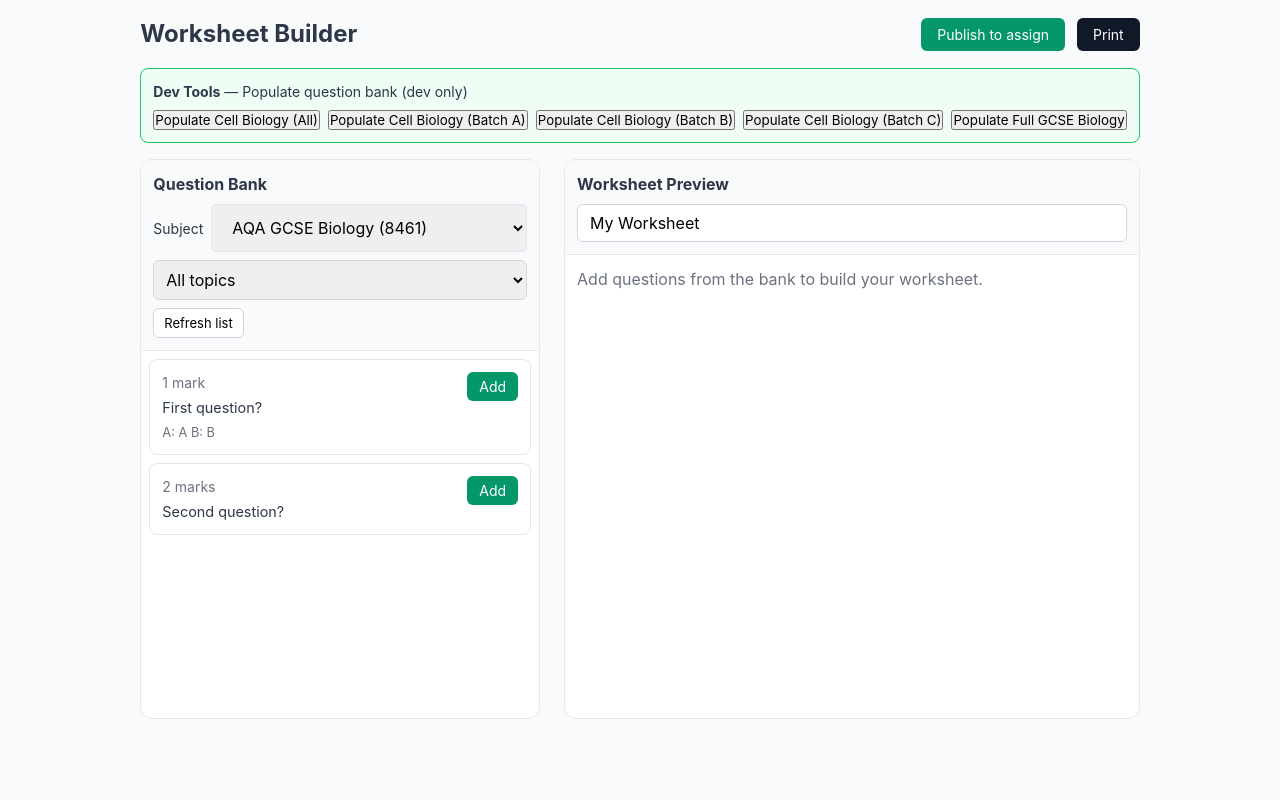
it: Add then Remove updates preview
expect the heading "Worksheet Builder" is shown: met, box [140,16,357,52]
Click the 1st button "Add" at (493, 386), box [467,372,518,401]
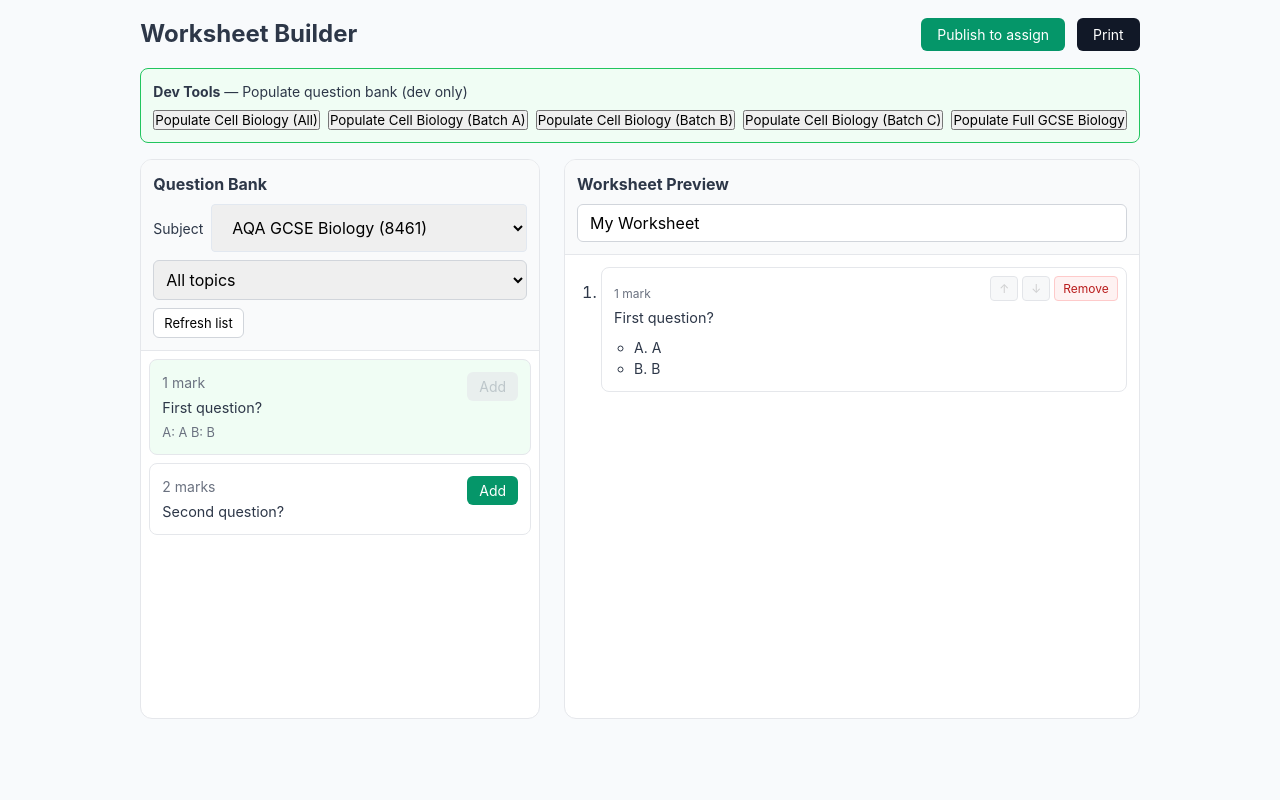
expect the heading "Worksheet Preview" is shown: met, box [577,174,729,194]
Click the button "Remove" at (1086, 288), box [1054,276,1118,301]
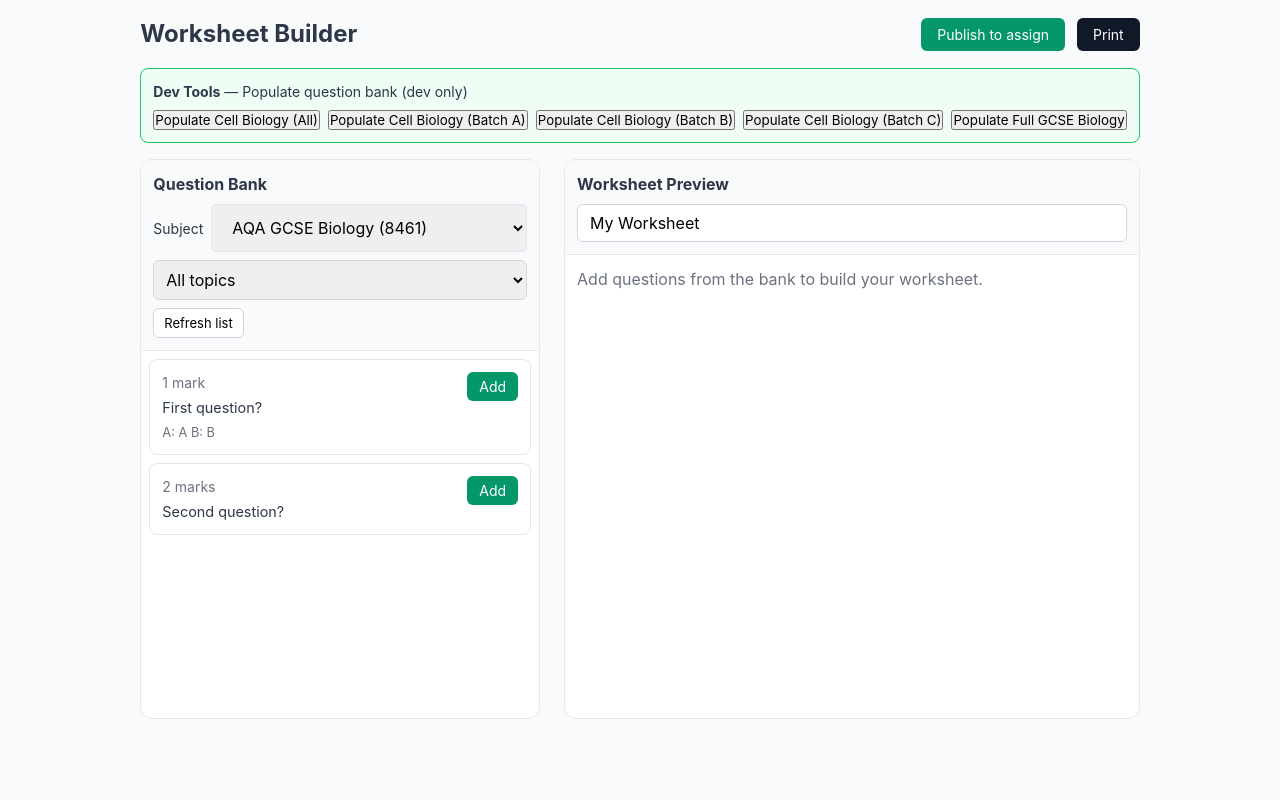
expect the text "Add questions from the bank to build your worksheet." is shown: met, box [577,269,983,289]
